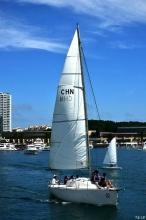fanchuan: (42, 25, 125, 204), (101, 133, 131, 171)
